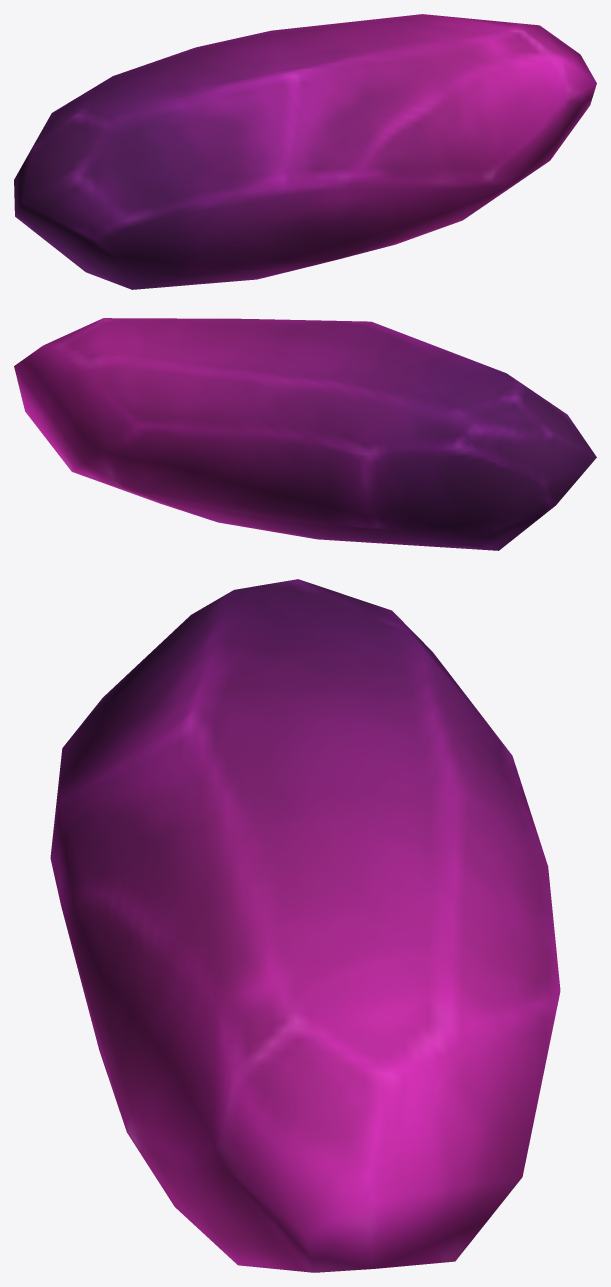
File: 00_ING_gem_purple.glb
3 renders of one model, top to bottom at view 1: azimuth 30°, elevation 25°; view 2: azimuth 150°, elevation 25°; view 3: azimuth 270°, elevation 25°, orthographic. The views are drawn at different scales.
Visible parts, largest first — view 1: 00_ING_gem_purple; view 2: 00_ING_gem_purple; view 3: 00_ING_gem_purple.
Part boxes in pixels (x1,y1,x2,y2): 00_ING_gem_purple: [14, 14, 596, 289]; 00_ING_gem_purple: [14, 318, 596, 550]; 00_ING_gem_purple: [50, 579, 560, 1272].
Bounding box in the file's own units: 0.1038 × 0.0344 × 0.0415.
1 material, 1 textured.
